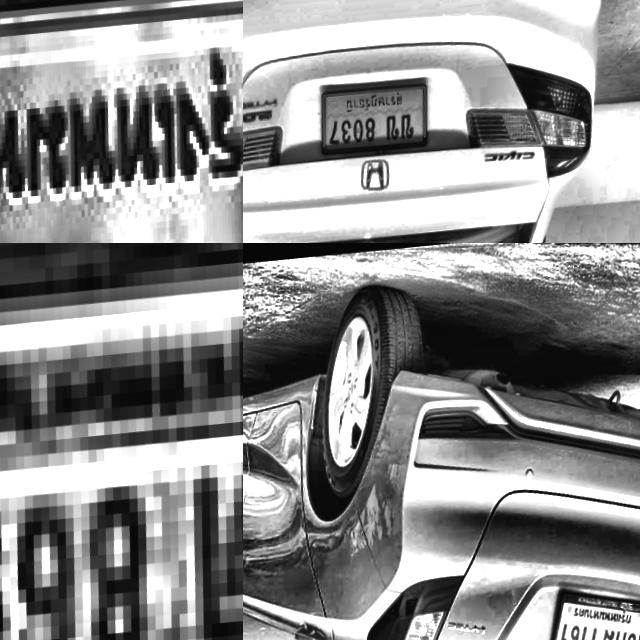license-plate: (0, 243, 243, 640), (0, 0, 243, 243), (316, 69, 444, 169), (547, 578, 640, 640)
